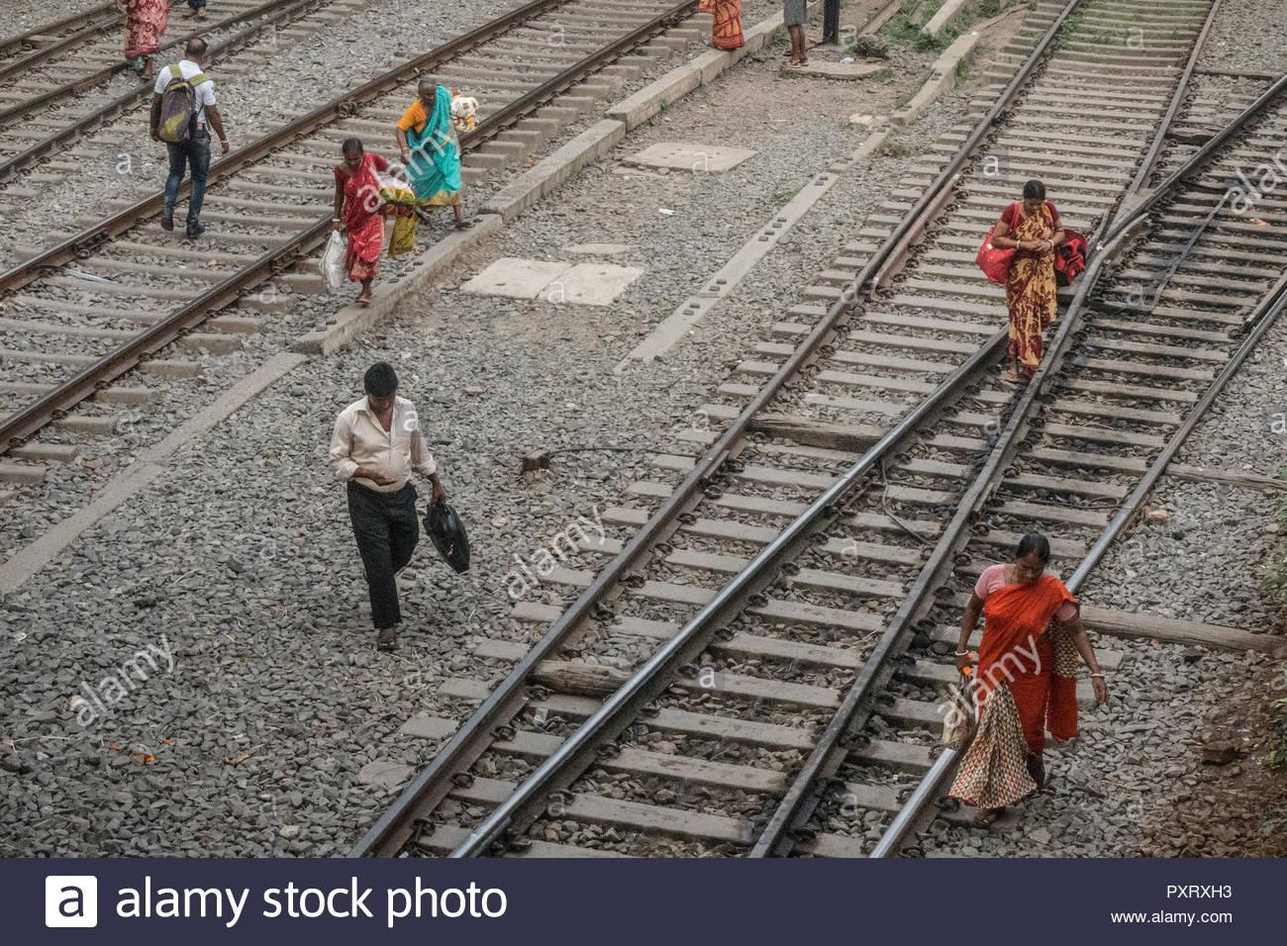person: (307, 338, 481, 659), (950, 522, 1111, 843), (976, 137, 1085, 424), (388, 42, 491, 257), (301, 131, 418, 309), (156, 36, 232, 259)
